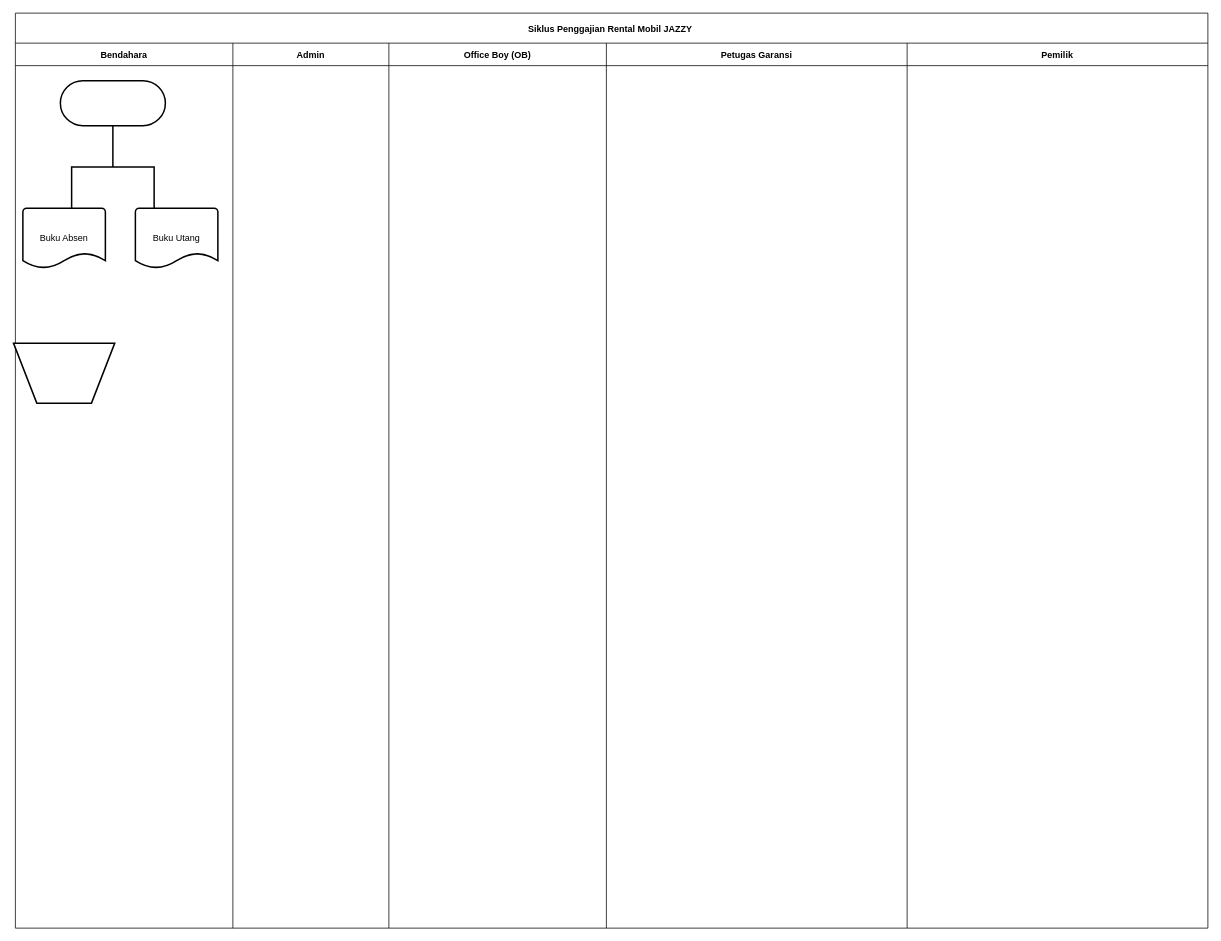
Some shapes in this 1221 by 941 pixel diagram are drawn without their labels. The shapes that lost their labels are listed below. From the top down, each one's box as (x1, y1, x2, y2) in pixels, then its label:
(59, 80, 166, 126): Start
(12, 342, 115, 404): Mengisi Absen
